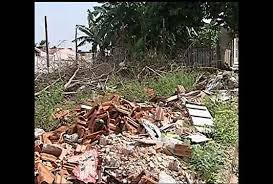rubble: (68, 103, 212, 181)
